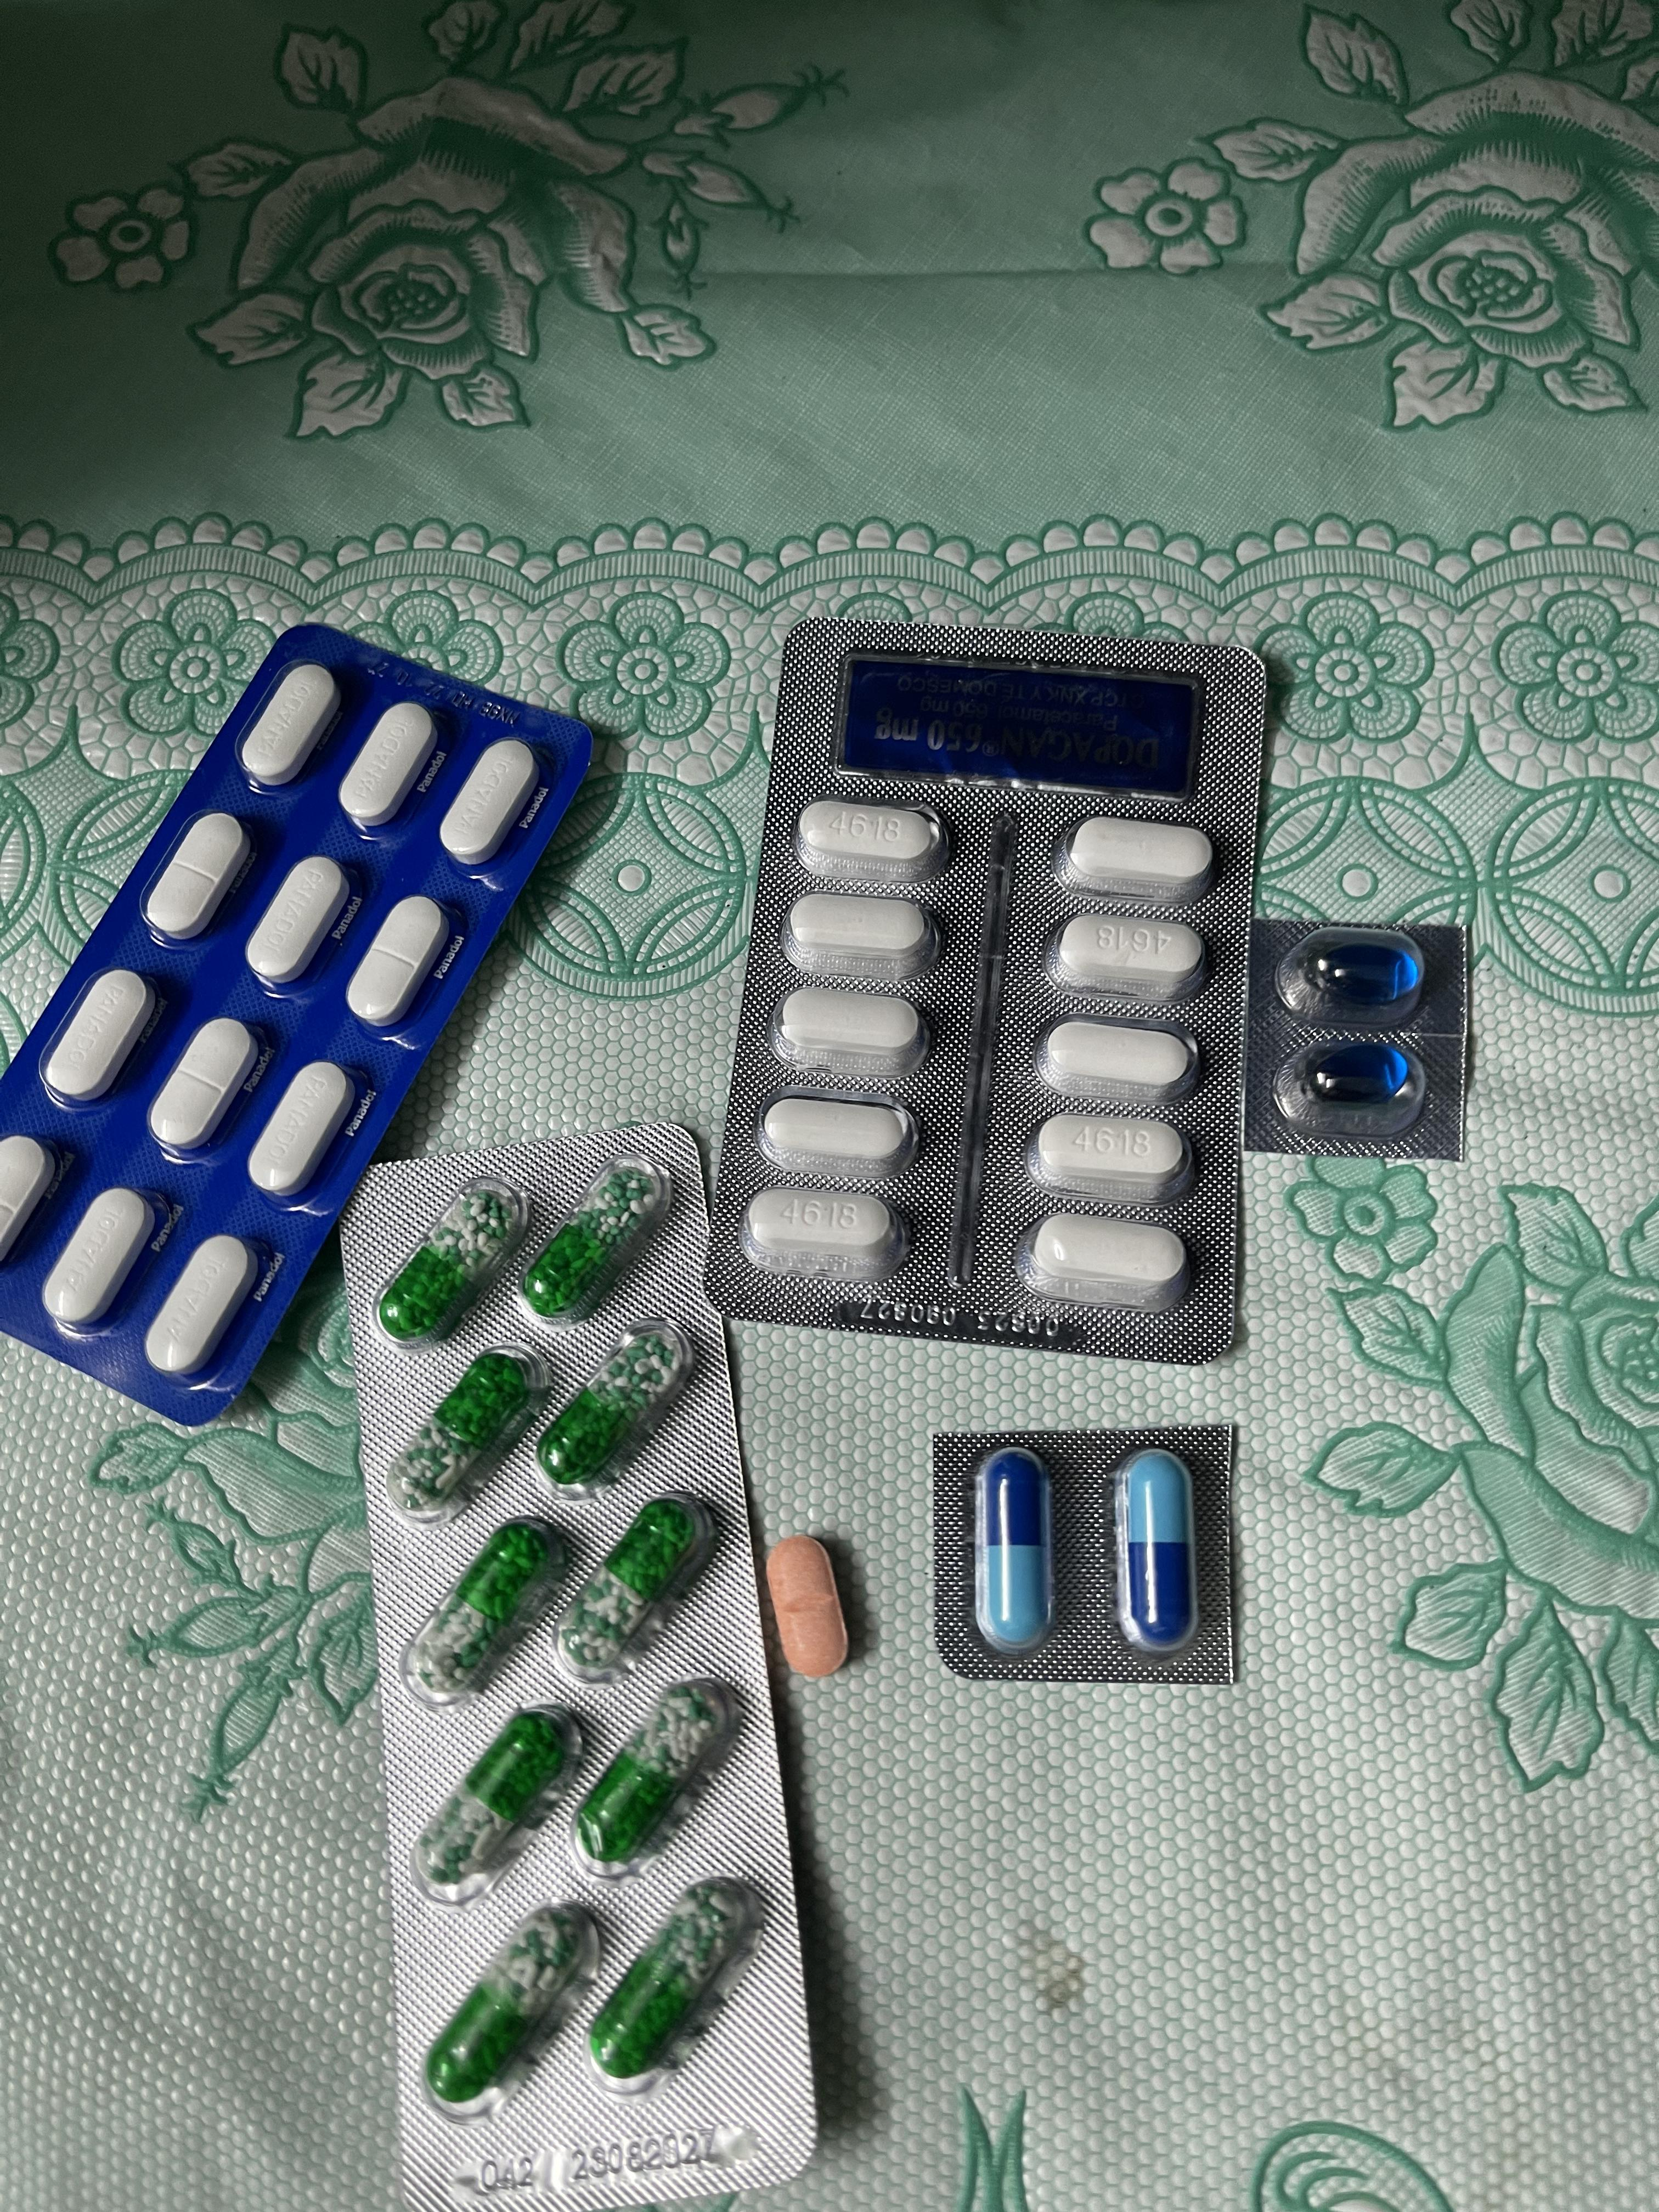Lincomyxin_500mg: (1311, 940, 1415, 1007), (1302, 1040, 1408, 1105)
Loratadine_10mg: (764, 1537, 845, 1682)
Paracetamol_350mg: (41, 1184, 161, 1330), (145, 1239, 264, 1383), (247, 1060, 363, 1201), (41, 969, 158, 1108), (148, 1019, 258, 1159), (346, 896, 453, 1029), (145, 812, 251, 944), (247, 856, 352, 988), (440, 740, 543, 869), (339, 702, 437, 830), (240, 664, 339, 787), (1, 1135, 59, 1267)
Paracetamol_500mg: (1023, 1207, 1196, 1300), (746, 1192, 901, 1286), (1032, 1110, 1193, 1199), (775, 989, 929, 1076), (1039, 1019, 1197, 1103), (795, 798, 950, 882), (1047, 916, 1202, 999), (758, 1096, 914, 1178), (783, 893, 934, 977), (1060, 818, 1211, 898)
Paracetamol_650mg: (585, 1880, 765, 2097), (426, 1903, 592, 2109), (419, 1707, 583, 1904), (406, 1519, 574, 1702), (574, 1684, 731, 1871), (536, 1331, 691, 1494), (400, 1345, 554, 1505), (557, 1504, 704, 1669), (522, 1167, 661, 1315), (382, 1189, 518, 1338)
pill: (974, 1452, 1053, 1656), (1117, 1451, 1194, 1653)
